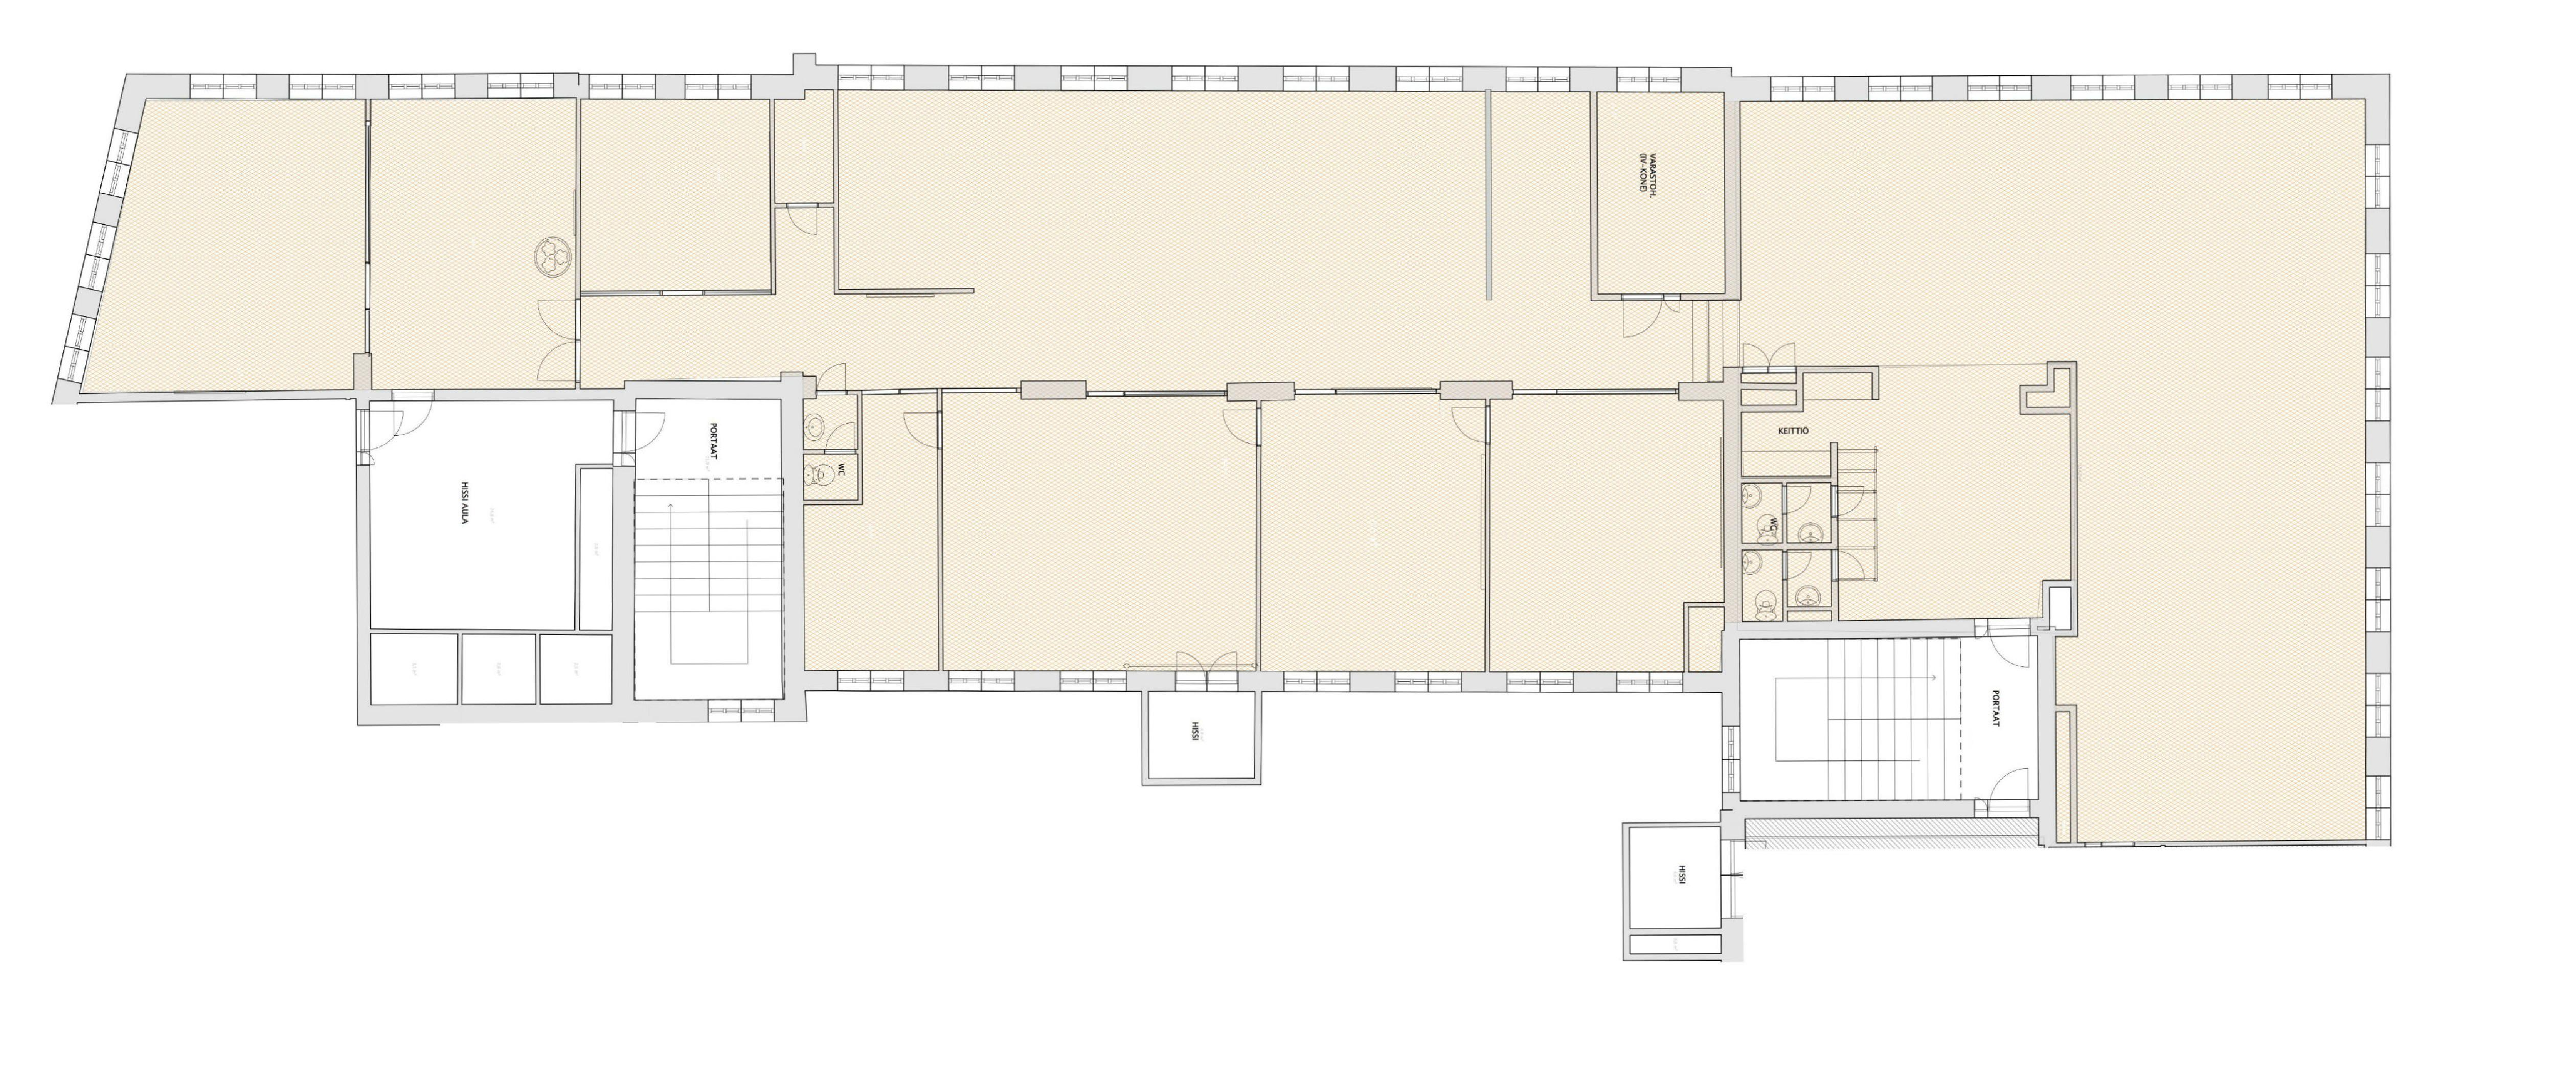door: (532, 291, 593, 378), (1620, 299, 1692, 353), (1165, 649, 1245, 695), (1981, 613, 2035, 674), (812, 360, 872, 411), (360, 408, 409, 459), (895, 404, 953, 447), (1983, 768, 2029, 819), (1446, 399, 1490, 449), (1832, 483, 1876, 526), (1219, 403, 1258, 447), (388, 393, 435, 429), (774, 209, 828, 240), (1741, 345, 1792, 378), (1825, 551, 1860, 585), (1776, 485, 1812, 508), (1776, 551, 1809, 572)
window: (71, 210, 128, 302), (97, 123, 151, 204), (286, 77, 388, 113), (184, 67, 264, 112), (2264, 71, 2344, 113), (1958, 76, 2034, 118), (1766, 77, 1853, 113), (376, 72, 465, 107), (590, 66, 664, 107), (51, 314, 100, 375), (841, 61, 910, 104), (1281, 62, 1359, 99), (2359, 357, 2399, 424), (953, 62, 1017, 104), (2359, 676, 2400, 740), (1051, 64, 1130, 97), (486, 67, 555, 104), (2366, 764, 2400, 835), (1280, 666, 1360, 695), (685, 72, 759, 104), (1385, 671, 1470, 697), (2366, 465, 2400, 528), (2362, 567, 2395, 631), (2170, 76, 2231, 109), (826, 671, 902, 697), (2364, 260, 2395, 322), (1503, 64, 1572, 92), (1617, 66, 1681, 95), (1871, 69, 1925, 104), (2362, 143, 2390, 204), (708, 699, 779, 722), (1623, 672, 1686, 697), (1718, 838, 1741, 904), (2073, 77, 2129, 104), (1068, 672, 1124, 697), (1171, 71, 1235, 92), (1513, 667, 1564, 694), (951, 674, 1012, 695), (1398, 69, 1457, 90), (1727, 732, 1743, 794)
zone: (1740, 109, 2366, 837), (588, 92, 1725, 388), (51, 76, 365, 395), (951, 391, 1258, 677), (1746, 362, 2060, 615), (366, 396, 606, 707), (1487, 393, 1725, 667), (1262, 399, 1490, 677), (358, 95, 573, 386), (1743, 635, 2035, 799), (790, 386, 935, 672), (639, 399, 775, 689), (585, 94, 769, 288), (1600, 97, 1720, 293), (774, 92, 833, 204), (798, 396, 848, 442), (808, 449, 851, 492)
